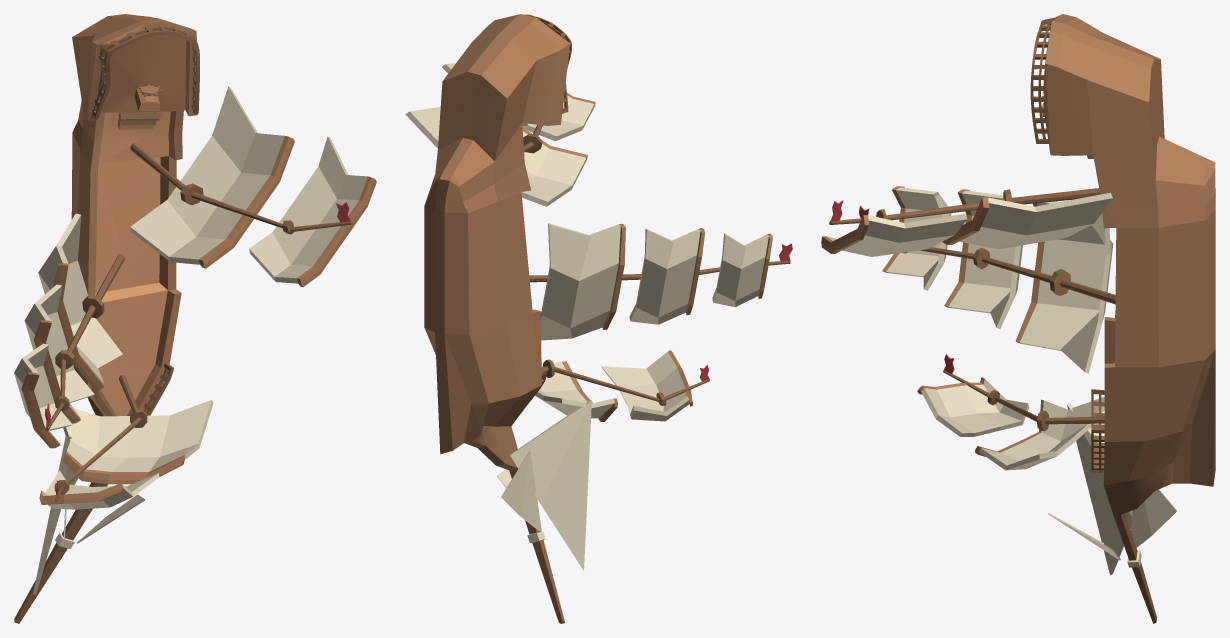
The model's file is Broken Boat.fbx.
3 renders of one model, left to right at view 1: azimuth 30°, elevation 25°; view 2: azimuth 150°, elevation 25°; view 3: azimuth 270°, elevation 25°, orthographic. The views are drawn at different scales.
Visible parts, largest first — view 1: BigShip, BackSail, MidleSail, Front Sail; view 2: BigShip, MidleSail, Front Sail, BackSail; view 3: BigShip, MidleSail, BackSail, Front Sail.
Boxes of the visible parts, bbox=[...] form: BigShip: bbox=[14, 14, 351, 623]; BackSail: bbox=[130, 86, 376, 287]; MidleSail: bbox=[14, 213, 122, 448]; Front Sail: bbox=[39, 400, 213, 509]; BigShip: bbox=[424, 14, 792, 623]; MidleSail: bbox=[540, 223, 772, 340]; Front Sail: bbox=[535, 350, 692, 421]; BackSail: bbox=[405, 63, 595, 206]; BigShip: bbox=[829, 14, 1215, 623]; MidleSail: bbox=[882, 186, 1113, 373]; BackSail: bbox=[821, 192, 1112, 256]; Front Sail: bbox=[917, 377, 1104, 470].
Size of the model in its own units: 351 by 613 by 341.
